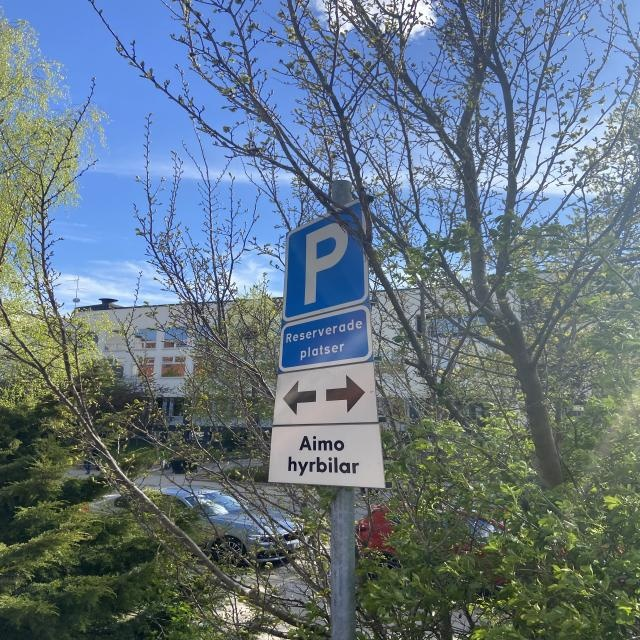P-skylt: (283, 206, 368, 316)
